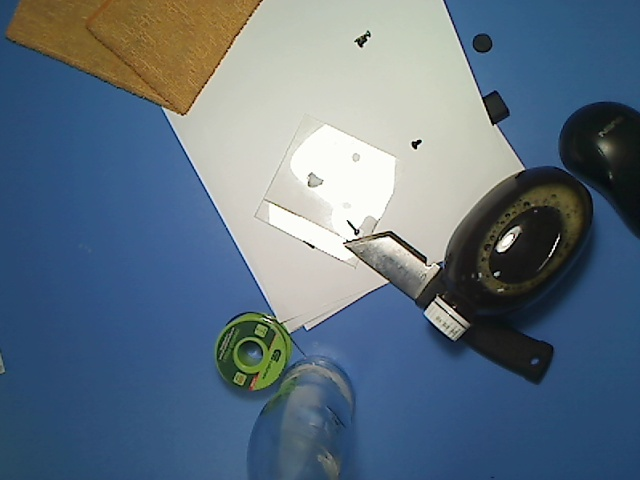plast_bottle: (422, 163, 598, 348)
